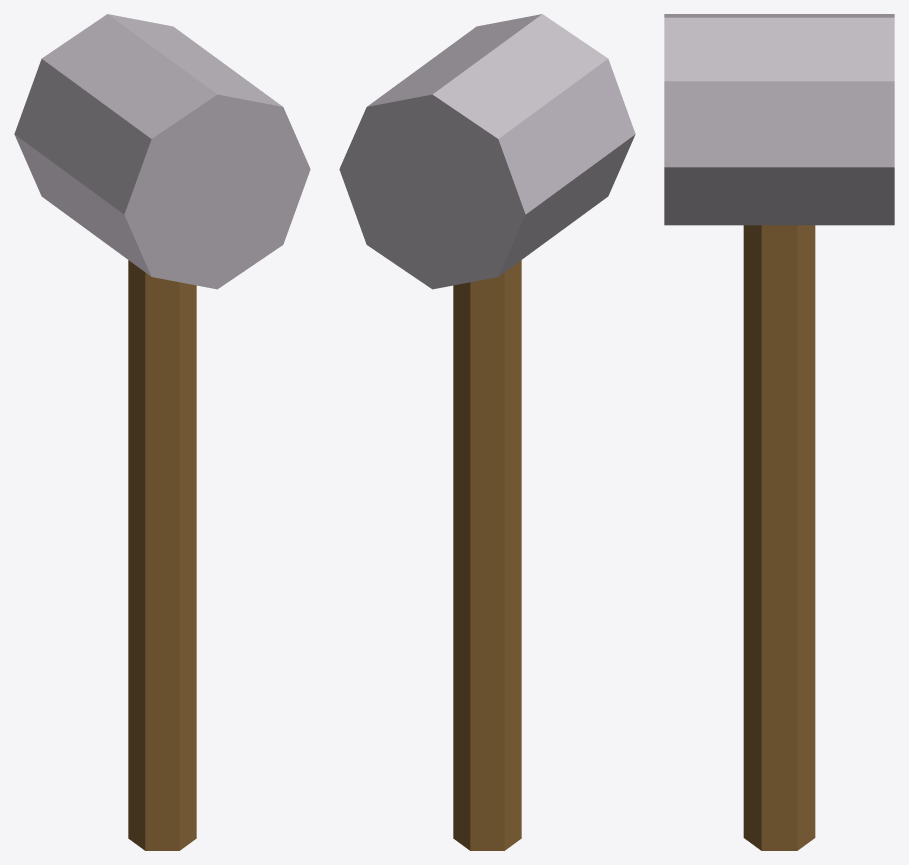
The model's file is war_maul.dae.
3 renders of one model, left to right at view 1: azimuth 30°, elevation 25°; view 2: azimuth 150°, elevation 25°; view 3: azimuth 270°, elevation 25°, orthographic. The views are drawn at different scales.
Visible parts, largest first — view 1: Cylinder.001, Cylinder; view 2: Cylinder.001, Cylinder; view 3: Cylinder.001, Cylinder.
Part boxes in pixels (left/top/right/bottom): Cylinder.001: left=14, top=14, right=310, bottom=289; Cylinder: left=128, top=260, right=196, bottom=850; Cylinder.001: left=339, top=14, right=635, bottom=289; Cylinder: left=453, top=260, right=521, bottom=850; Cylinder.001: left=664, top=14, right=894, bottom=225; Cylinder: left=743, top=225, right=815, bottom=850.
Size of the model in its own units: 44 by 45 by 177.
